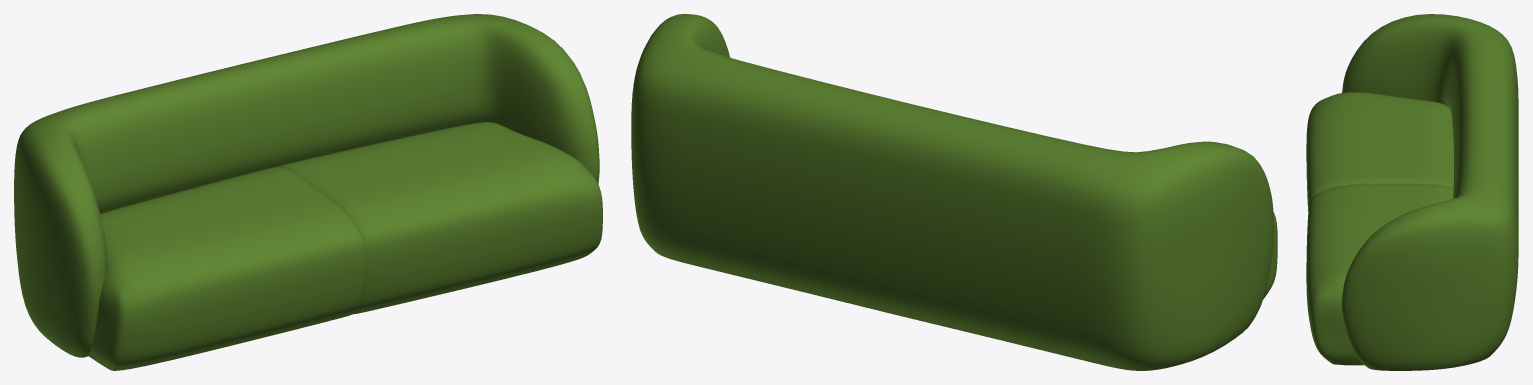
File: SM_Sofa.fbx
3 renders of one model, left to right at view 1: azimuth 30°, elevation 25°; view 2: azimuth 150°, elevation 25°; view 3: azimuth 270°, elevation 25°, orthographic. The views are drawn at different scales.
Parts seen in each view (by area): view 1: SM_Sofa; view 2: SM_Sofa; view 3: SM_Sofa.
Boxes of the visible parts, x1,y1,x2,y2 form: SM_Sofa: (14, 14, 602, 370); SM_Sofa: (631, 14, 1277, 370); SM_Sofa: (1306, 14, 1518, 370).
Bounding box in the file's own units: 210 × 70.94 × 86.69.
